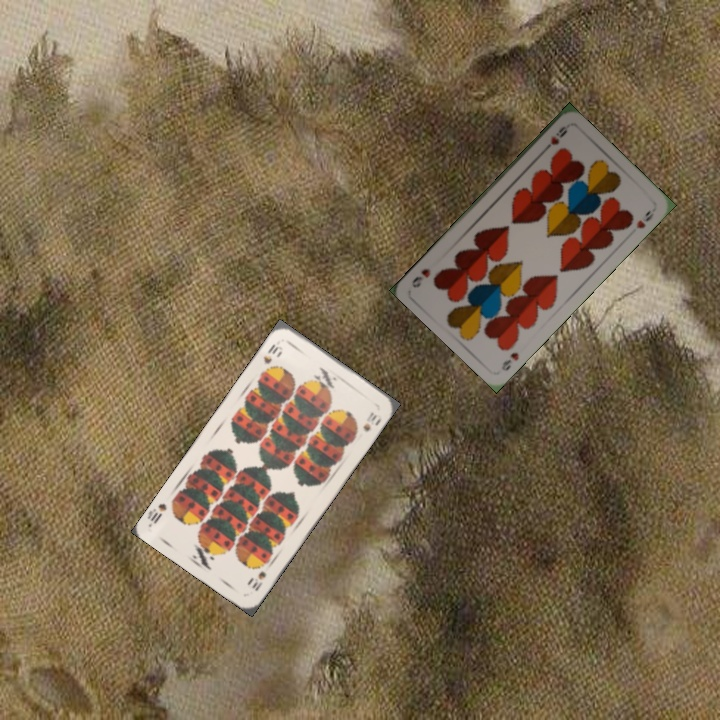H9: (539, 121, 571, 155), (497, 348, 521, 373)
S10: (259, 340, 285, 367), (245, 567, 269, 594)
